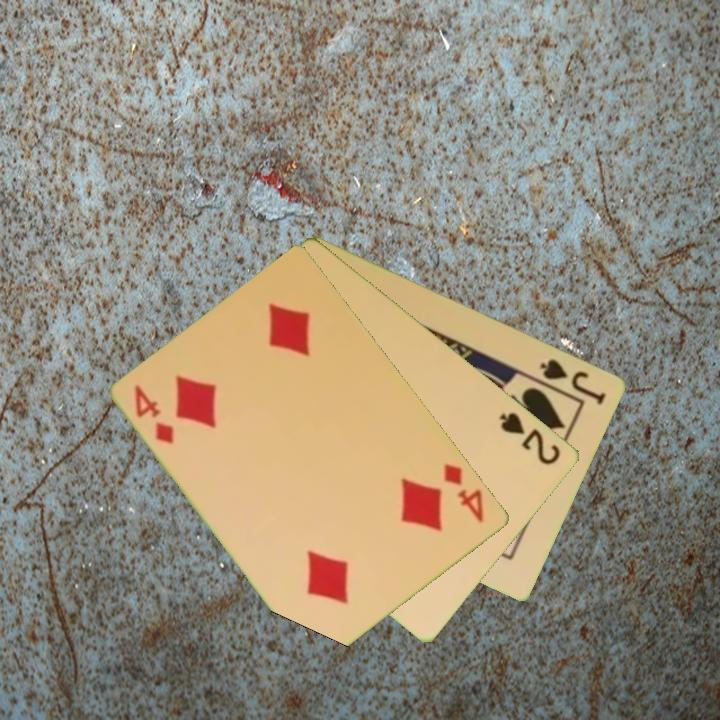2s: (495, 408, 564, 468)
4d: (440, 459, 488, 526), (131, 381, 178, 447)
Js: (536, 355, 610, 408)
